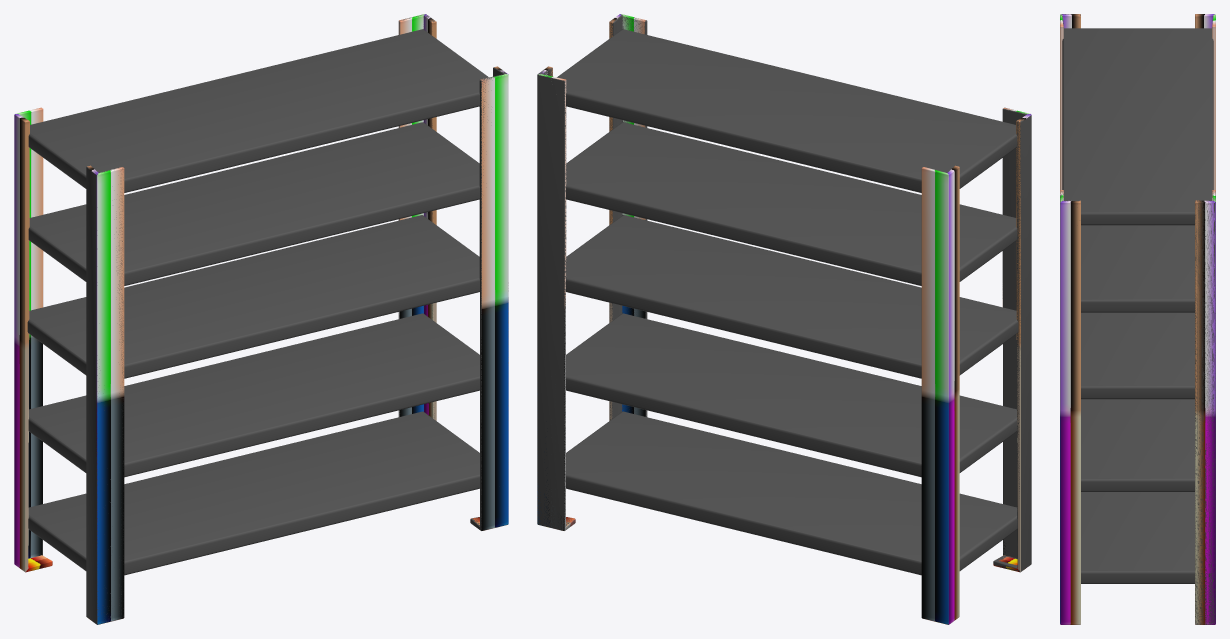
Rendered from SM_Env_MetalShelf.fbx.
3 renders of one model, left to right at view 1: azimuth 30°, elevation 25°; view 2: azimuth 150°, elevation 25°; view 3: azimuth 270°, elevation 25°, orthographic. The views are drawn at different scales.
Visible parts, largest first — view 1: Metal_Shelf; view 2: Metal_Shelf; view 3: Metal_Shelf.
Boxes of the visible parts, x1,y1,x2,y2 form: Metal_Shelf: (14, 14, 508, 624); Metal_Shelf: (537, 14, 1031, 624); Metal_Shelf: (1060, 14, 1215, 624).
Bounding box in the file's own units: 2.01 × 2.1 × 0.7.
